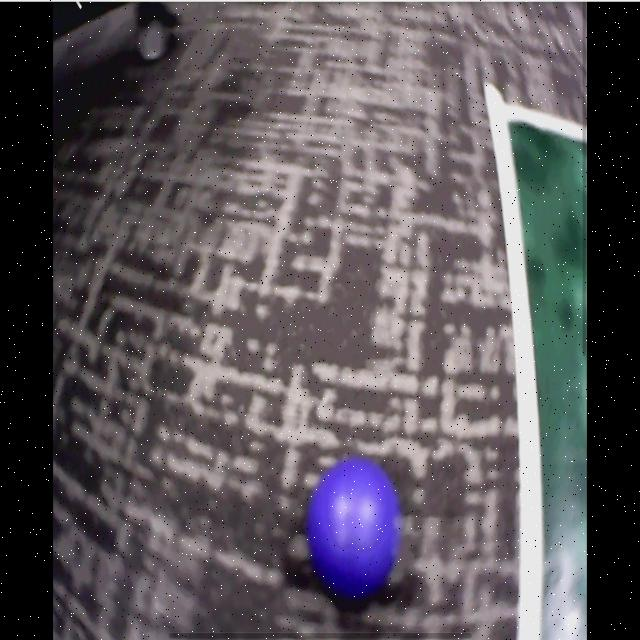ball: (311, 459, 400, 607)
